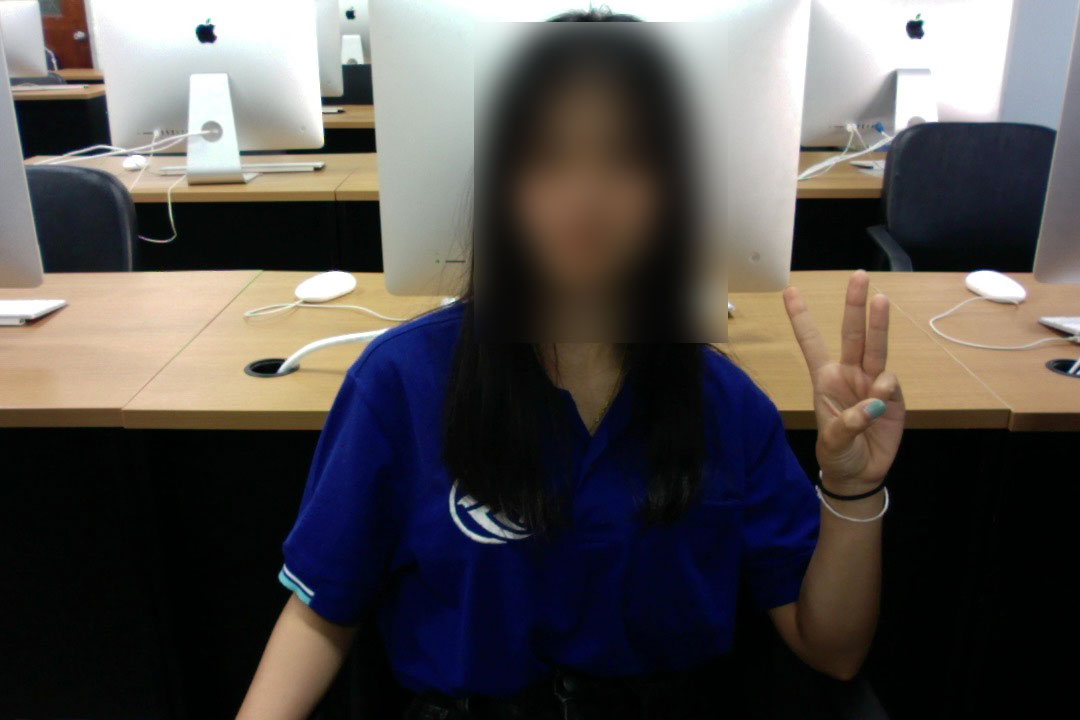wor: (769, 265, 910, 506)
